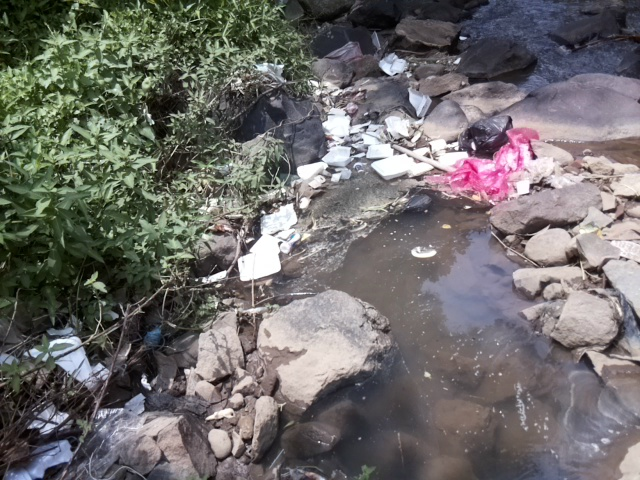Sampah_Botol_Plastik: (282, 228, 305, 252)
Sampah_Plastik: (439, 124, 542, 206), (455, 112, 515, 155)
Sampah_Styrofoam: (236, 244, 284, 282), (372, 154, 435, 180), (323, 107, 354, 138), (362, 130, 394, 159), (247, 231, 284, 254), (385, 114, 414, 140), (323, 144, 355, 167), (381, 51, 410, 75), (292, 160, 326, 180), (408, 88, 431, 116)
